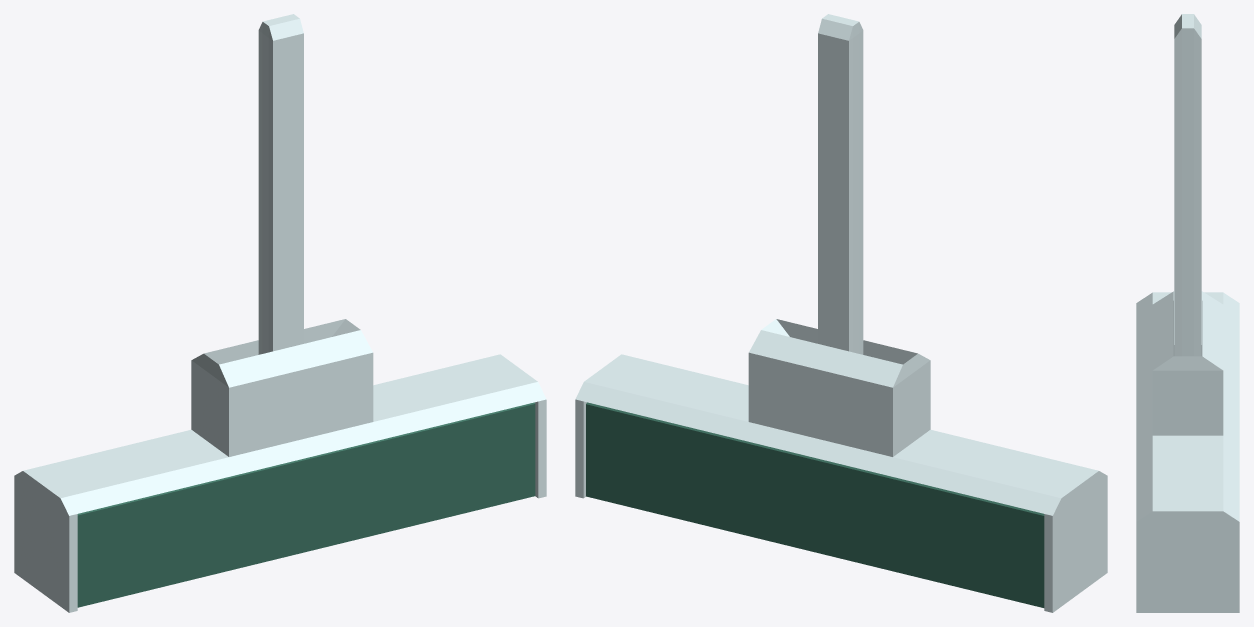
Rendered from Pless 1.fbx.
3 views of the same model, side by side, from view 1: azimuth 30°, elevation 25°; view 2: azimuth 150°, elevation 25°; view 3: azimuth 270°, elevation 25° (orthographic). The views are drawn at different scales.
Parts seen in each view (by area): view 1: 立方体.002; view 2: 立方体.002; view 3: 立方体.002.
Boxes of the visible parts, x1,y1,x2,y2 form: 立方体.002: (14, 14, 546, 612); 立方体.002: (575, 14, 1107, 612); 立方体.002: (1136, 14, 1239, 612).
Bounding box in the file's own units: 889 × 915 × 177.
